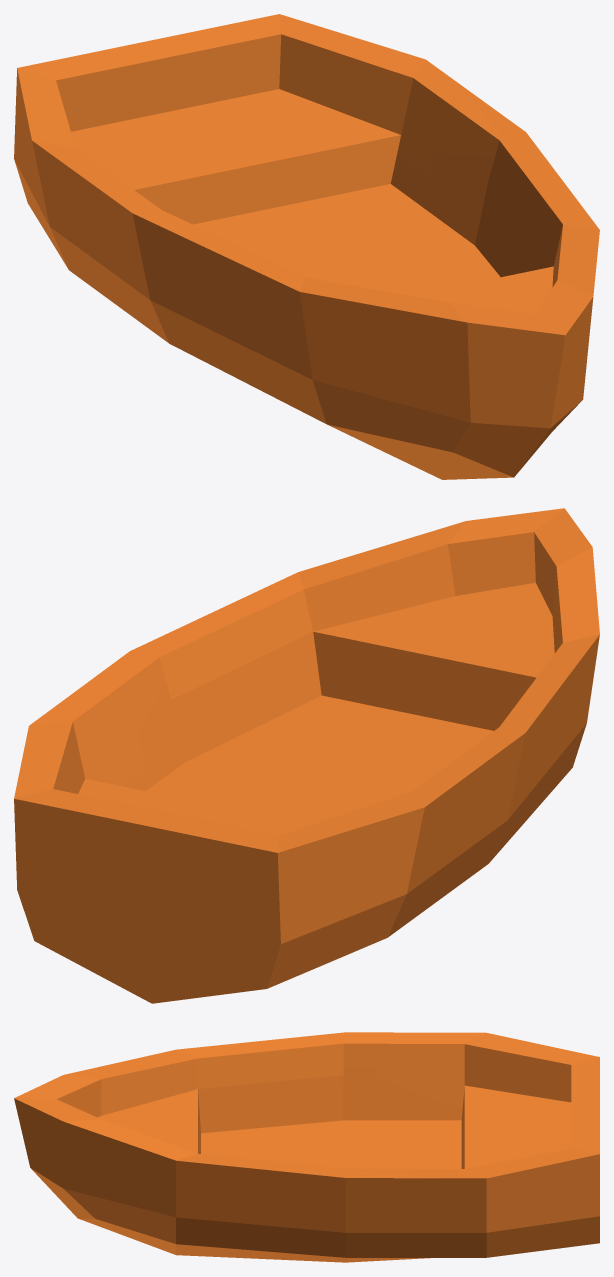
File: boat.fbx
3 views of the same model, one above another, from view 1: azimuth 30°, elevation 25°; view 2: azimuth 150°, elevation 25°; view 3: azimuth 270°, elevation 25° (orthographic). The views are drawn at different scales.
Visible parts, largest first — view 1: Cube; view 2: Cube; view 3: Cube.
Boxes of the visible parts, bbox=[...] form: Cube: bbox=[14, 14, 599, 479]; Cube: bbox=[14, 508, 599, 1003]; Cube: bbox=[14, 1032, 599, 1262].
Size of the model in its own units: 231 by 424 by 135.
